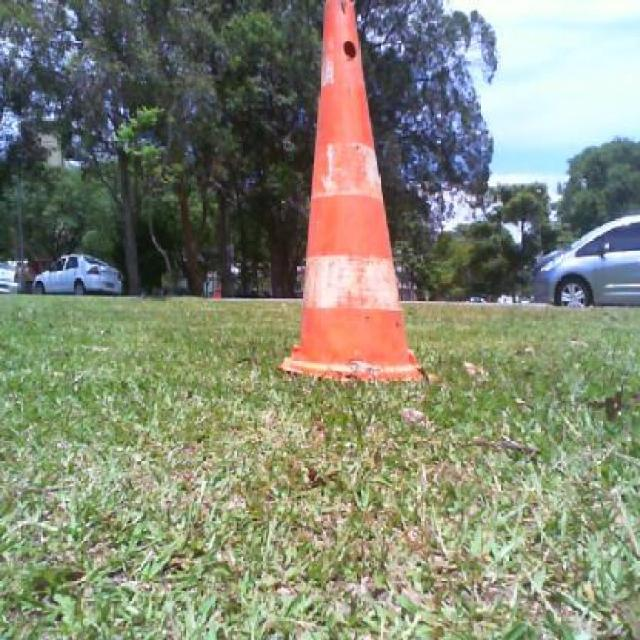Cone: (278, 1, 426, 384)
